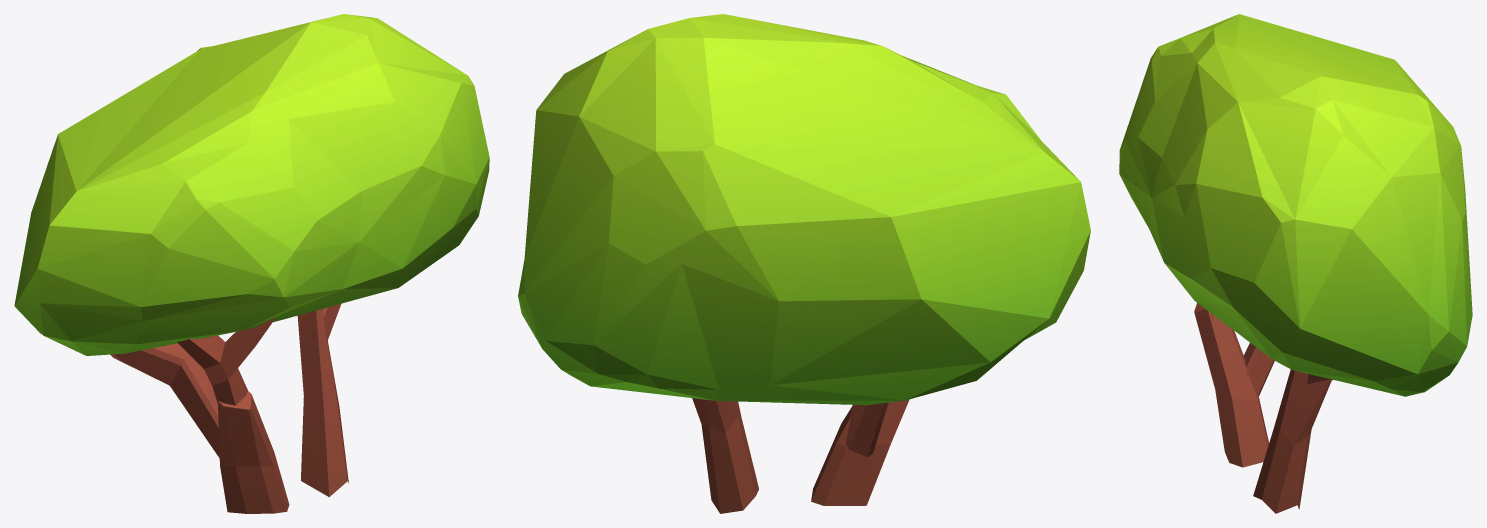
3 views of the same model, side by side, from view 1: azimuth 30°, elevation 25°; view 2: azimuth 150°, elevation 25°; view 3: azimuth 270°, elevation 25° (orthographic). The views are drawn at different scales.
Parts seen in each view (by area): view 1: Bush; view 2: Bush; view 3: Bush.
Part boxes in pixels (x1,y1,x2,y2): Bush: (14,14,489,513); Bush: (518,14,1090,513); Bush: (1119,14,1472,513).
Size of the model in its own units: 336 by 300 by 220.
1 material, 1 textured.
